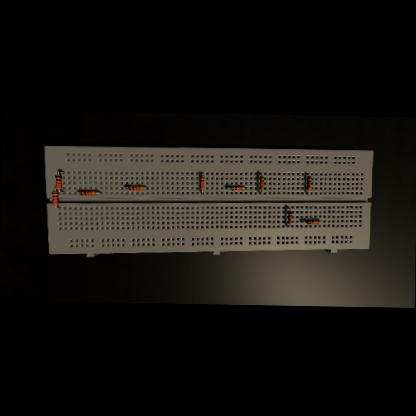breadboard: (42, 143, 372, 261)
resistor: (55, 173, 62, 188), (52, 190, 58, 204), (306, 175, 311, 188), (80, 190, 96, 194), (128, 184, 143, 188), (260, 175, 264, 189), (230, 186, 244, 190), (200, 175, 204, 189), (306, 219, 320, 223), (288, 210, 292, 223)
wire: (58, 170, 64, 173), (58, 189, 64, 192), (286, 206, 290, 209), (54, 206, 60, 208), (143, 186, 148, 188), (306, 172, 309, 174), (259, 172, 262, 174), (306, 190, 309, 192), (301, 220, 307, 221), (286, 224, 289, 226), (226, 187, 230, 188), (260, 190, 262, 192), (244, 187, 246, 188), (54, 188, 55, 190), (78, 191, 80, 192), (126, 186, 127, 187)
